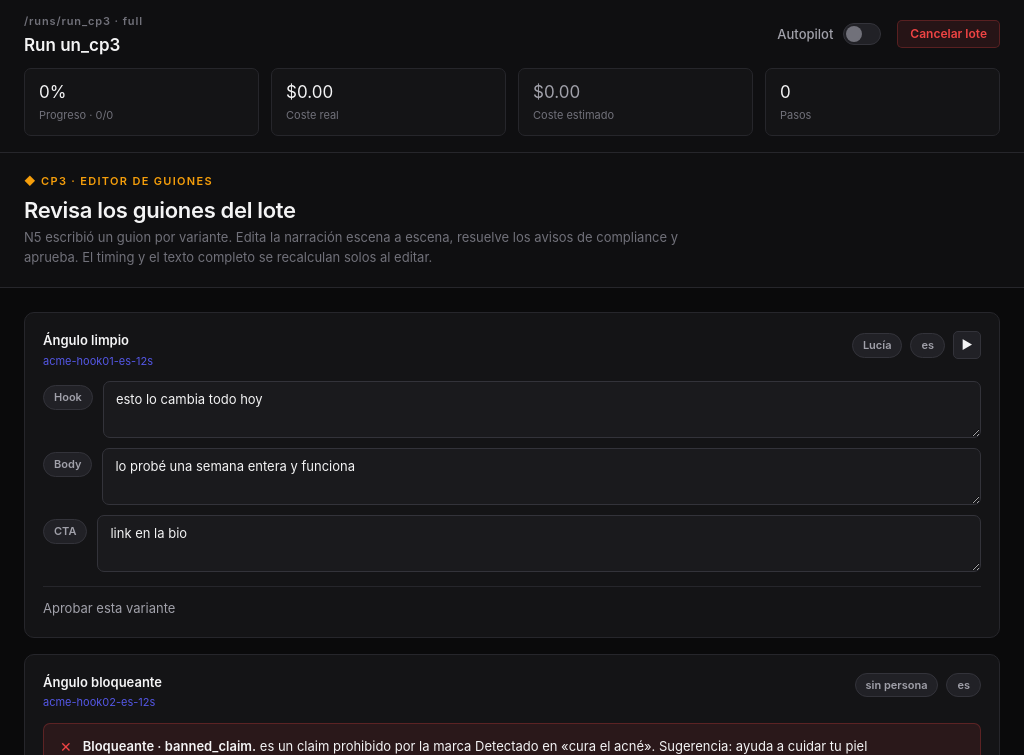
Test case: ScriptsPanel (CP3) › T5c.2: aprobar en un tier que NO genera pinta el aviso en la cabecera (nombra el tier)
This screenshot has width=1024, height=755.
Click the checkbox labelled "Aprobar esta variante" at (109, 609), box [43, 599, 176, 619]
(page scrolled)
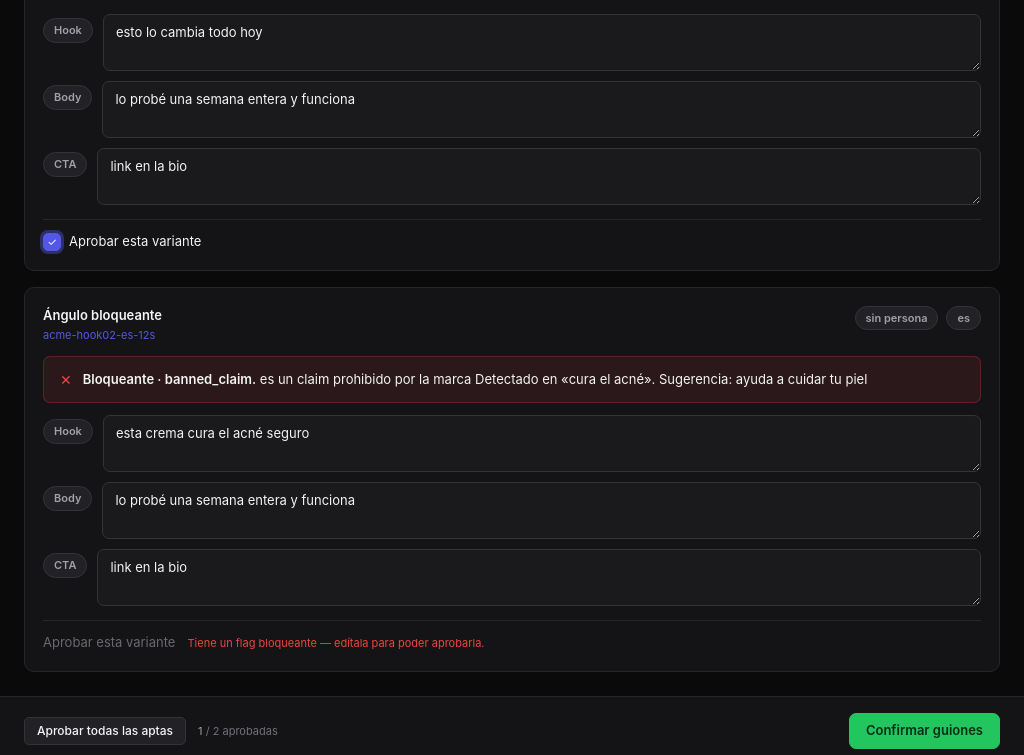
Click the button "Confirmar guiones" at (924, 731), box [849, 713, 1000, 749]
(page scrolled)
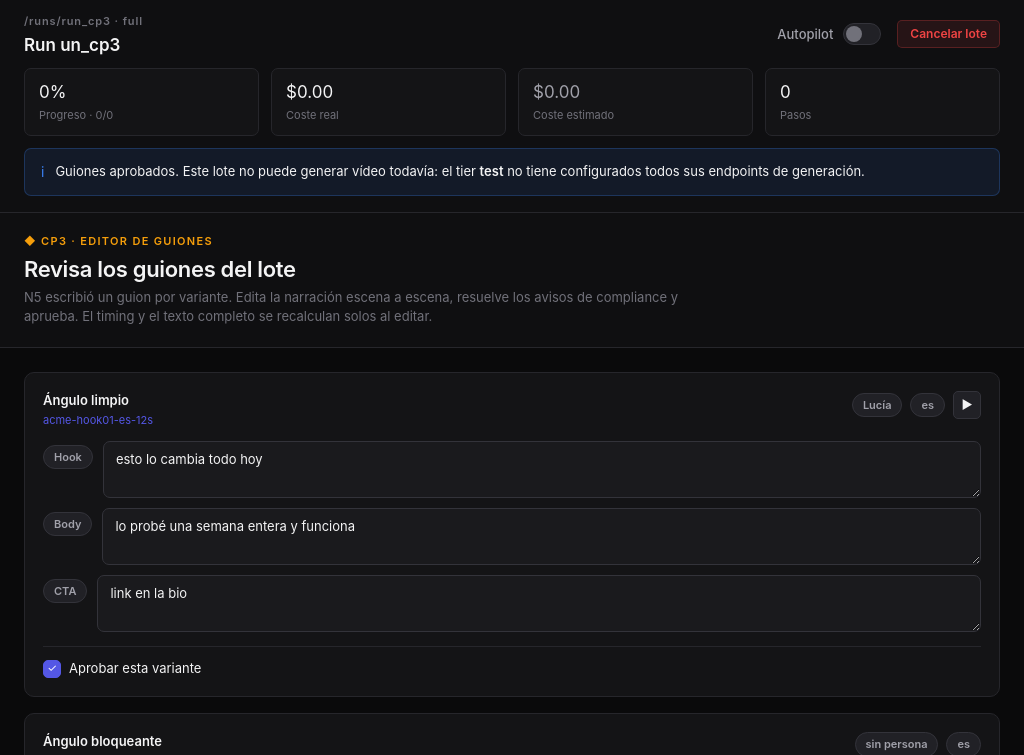
Result: the message is shown at [24, 148, 1000, 196]
Result: the message shows "no puede generar vídeo todavía" at [55, 163, 476, 179]
Result: the message shows "test" at [480, 163, 504, 179]
